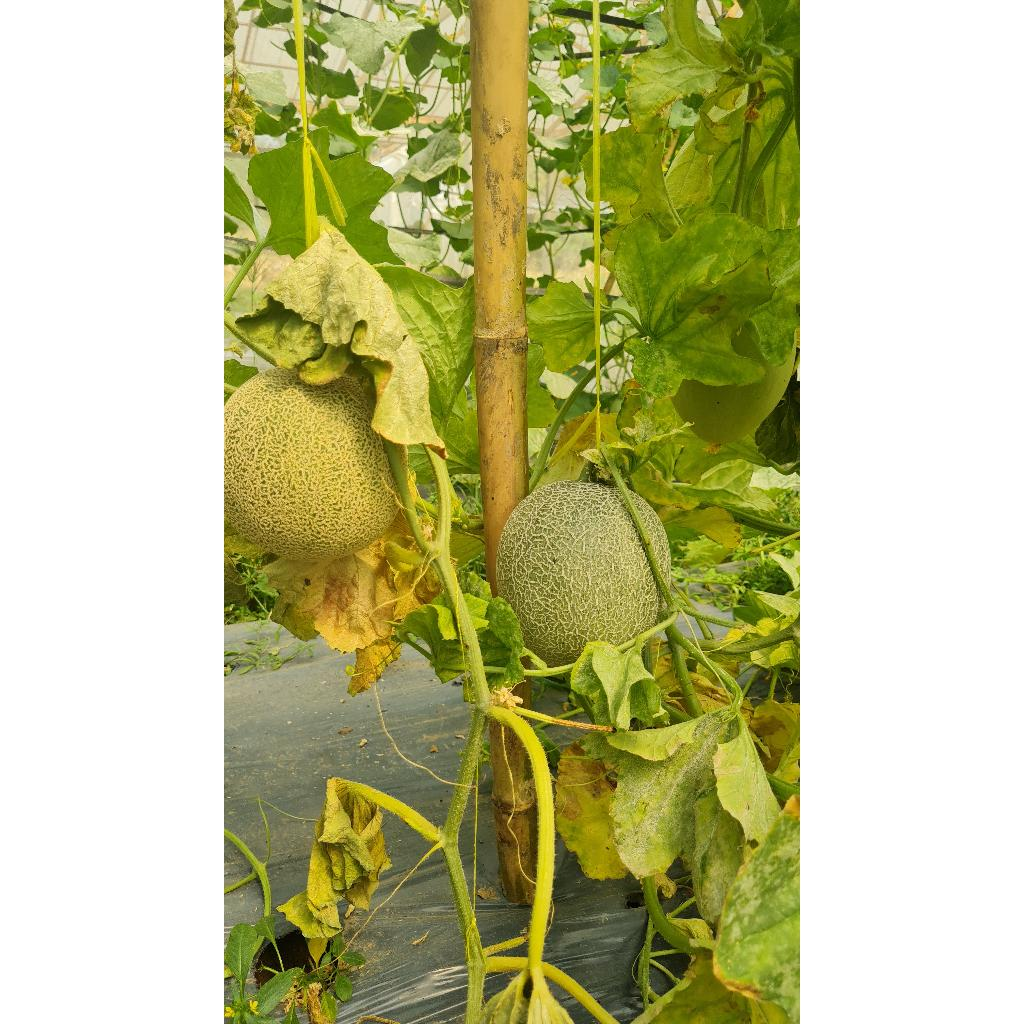melon: (224, 366, 398, 560), (496, 480, 662, 666), (632, 492, 670, 582)
